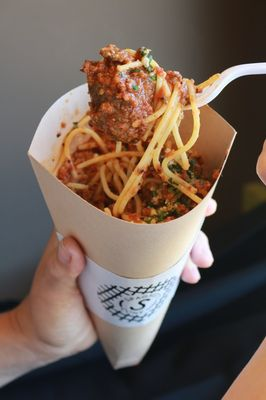pizza: (25, 40, 229, 369)
sushi: (26, 41, 220, 281)
